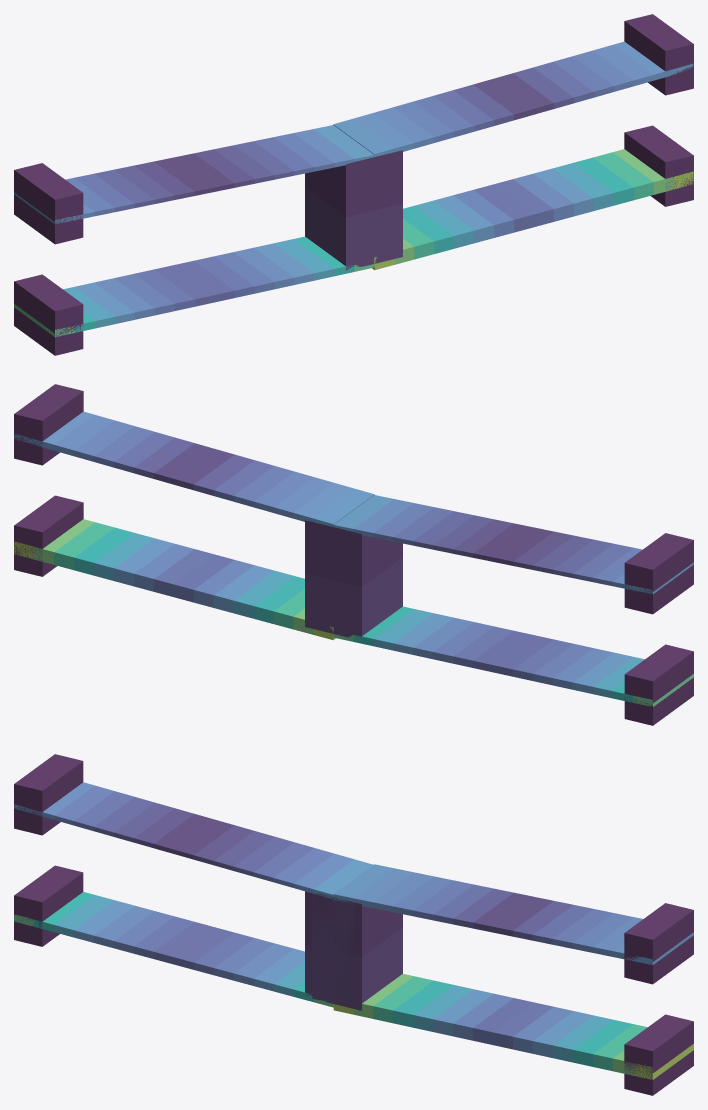
Rendered from exp_01_a_solid.glb.
3 renders of one model, top to bottom at view 1: azimuth 30°, elevation 25°; view 2: azimuth 150°, elevation 25°; view 3: azimuth 330°, elevation 25°, orthographic.
Parts seen in each view (by area): view 1: geometry_0; view 2: geometry_0; view 3: geometry_0.
Boxes of the visible parts, <box> form: geometry_0: <box>14,14,693,355</box>; geometry_0: <box>14,384,693,725</box>; geometry_0: <box>14,754,693,1095</box>.
Bounding box in the file's own units: 0.09 × 0.021 × 0.01.
